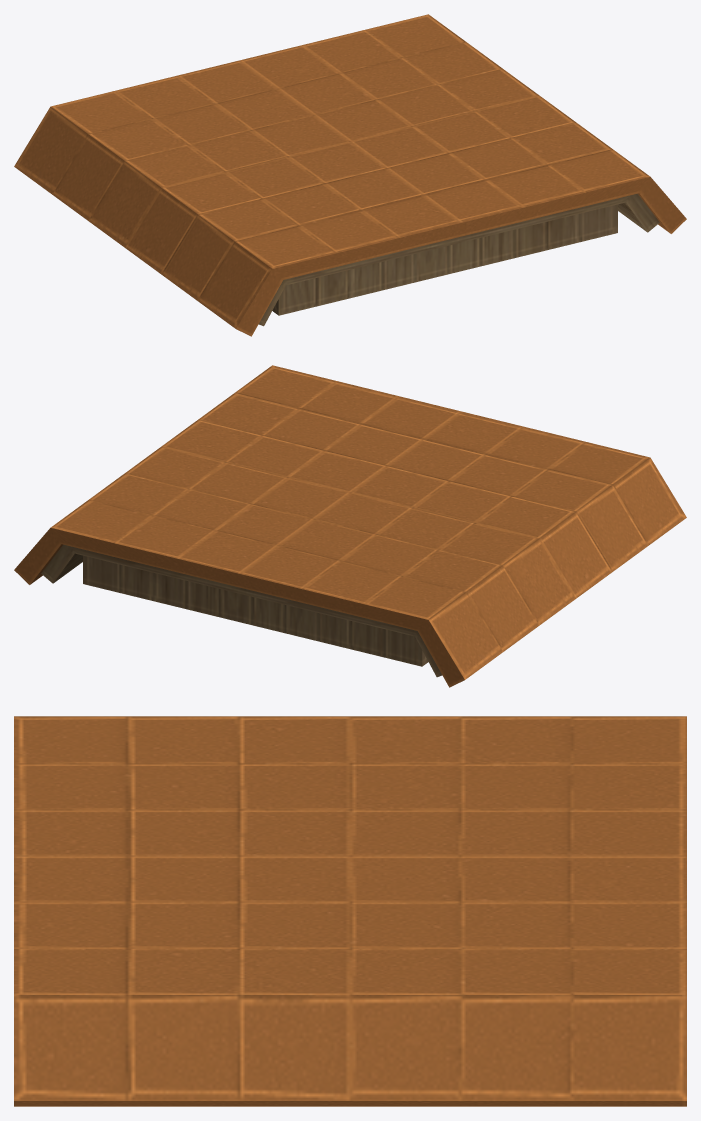
Rendered from sb_obj_outdoor028_house01_roof_b.fbx.
The picture shows the model from 3 angles, top to bottom: view 1: azimuth 30°, elevation 25°; view 2: azimuth 150°, elevation 25°; view 3: azimuth 270°, elevation 25°; orthographic projection. The views are drawn at different scales.
Visible parts, largest first — view 1: sb_obj_outdoor028_house01_roof_b; view 2: sb_obj_outdoor028_house01_roof_b; view 3: sb_obj_outdoor028_house01_roof_b.
Boxes of the visible parts, x1=… form: sb_obj_outdoor028_house01_roof_b: x1=14, y1=14, x2=686, y2=336; sb_obj_outdoor028_house01_roof_b: x1=14, y1=365, x2=686, y2=687; sb_obj_outdoor028_house01_roof_b: x1=14, y1=716, x2=686, y2=1106.
Size of the model in its own units: 3.99 by 0.5292 by 3.4.
